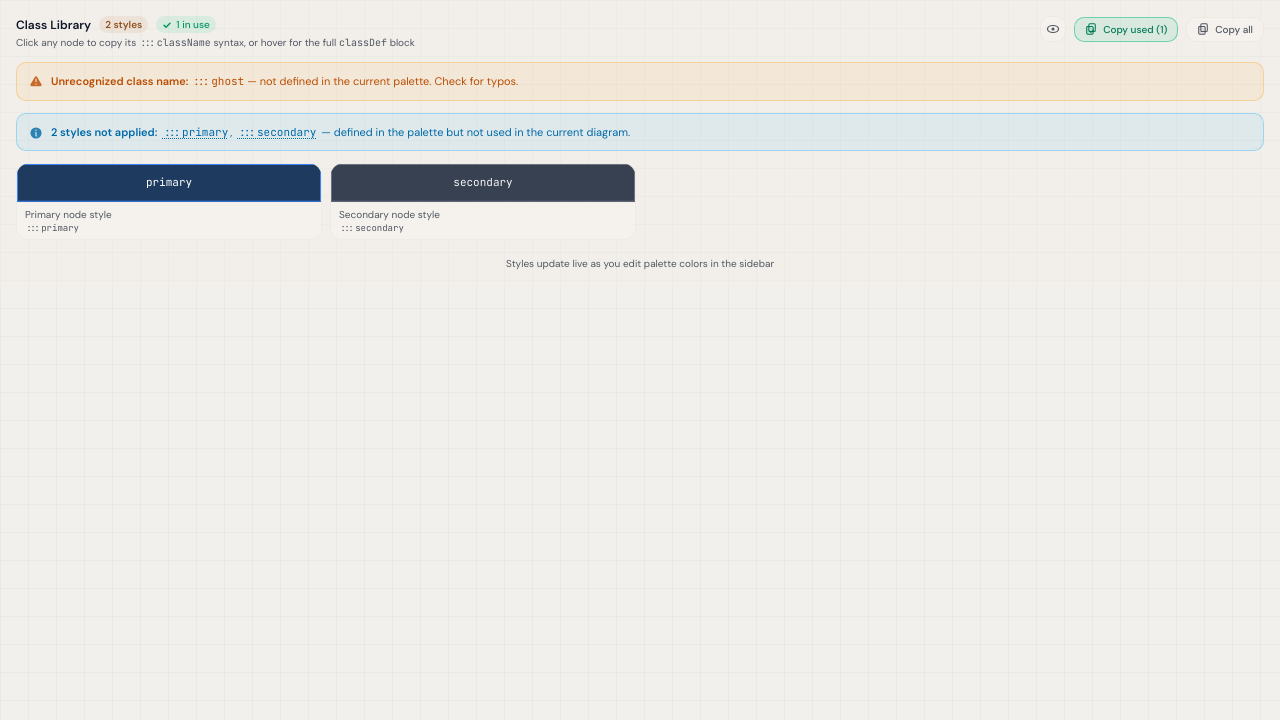
Test case: ClassBrowser — indicator button checkmark flash after copy › only the clicked button shows the checkmark — other indicator buttons are unaffected
Click the button with aria-label "Copy :::primary" at (195, 132), box [160,124,230,140]
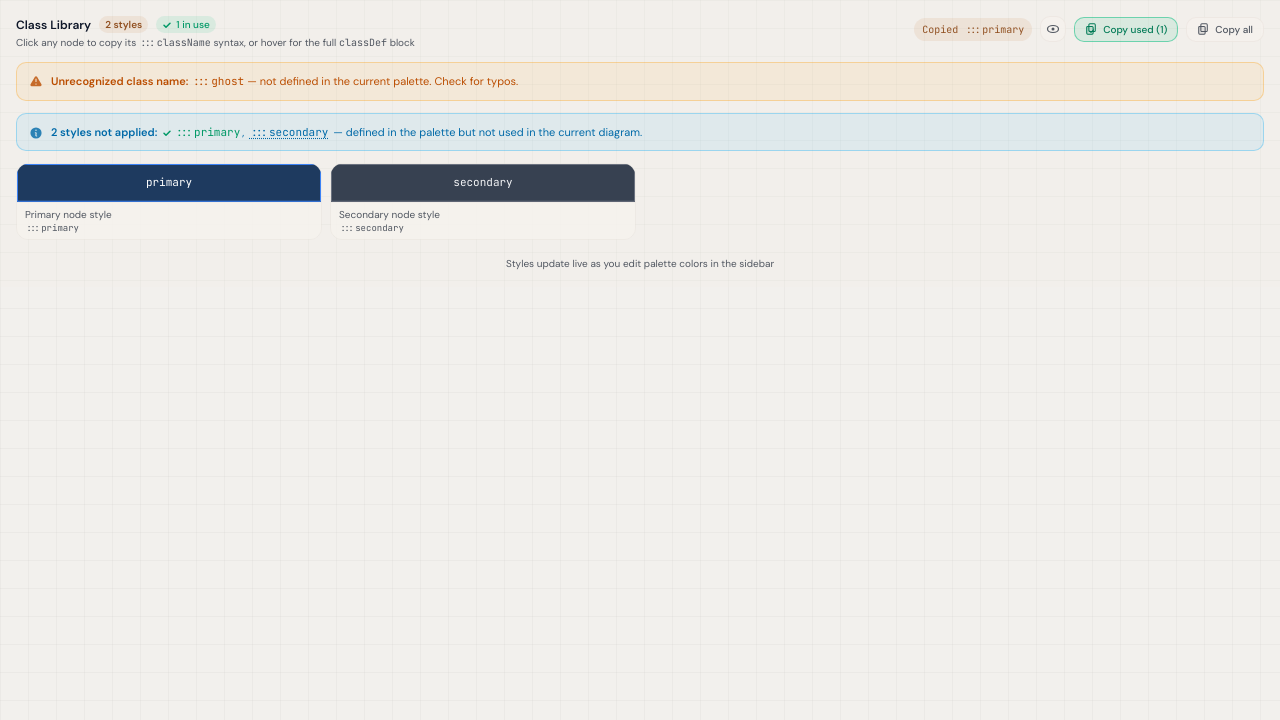
Expected: the icon next to "2 styles not applied:" is shown, [162,128,172,138]
